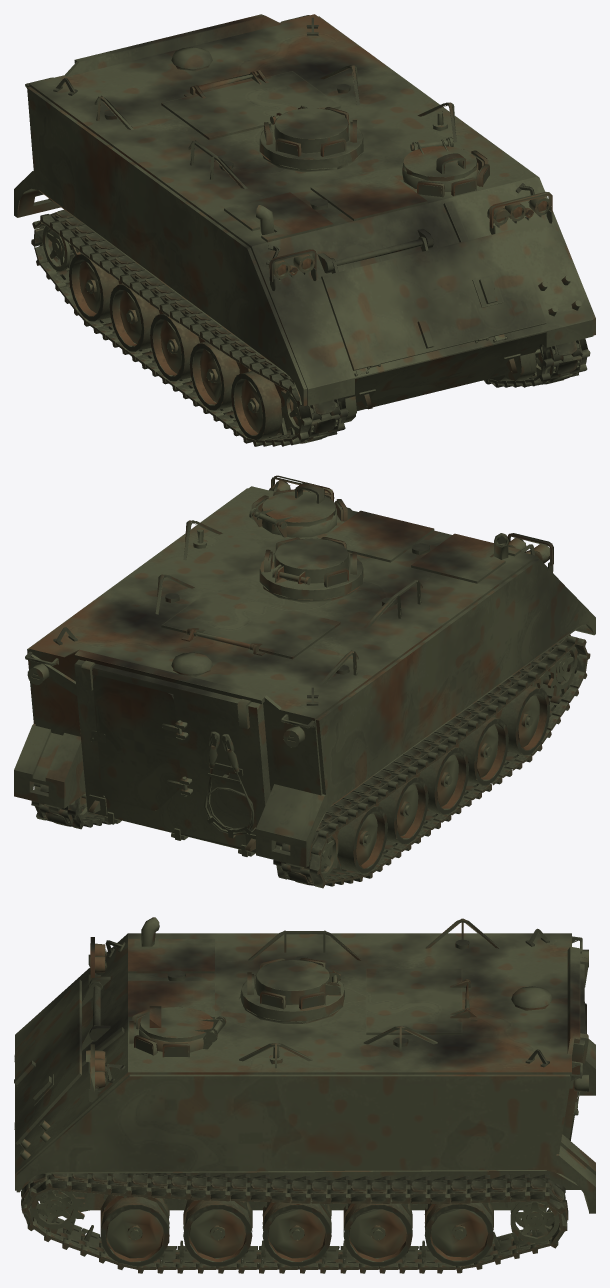
The model's file is WreckM113.fbx.
3 renders of one model, top to bottom at view 1: azimuth 30°, elevation 25°; view 2: azimuth 150°, elevation 25°; view 3: azimuth 270°, elevation 25°, orthographic.
Visible parts, largest first — view 1: WreckM113_LOD0; view 2: WreckM113_LOD0; view 3: WreckM113_LOD0.
Boxes of the visible parts, x1,y1,x2,y2 form: WreckM113_LOD0: (14,14,595,446); WreckM113_LOD0: (14,475,595,888); WreckM113_LOD0: (14,917,595,1273).
Size of what is drawn, in the model's own units: 3.05 by 2.3 by 5.27.
Materials: 1 (1 with a texture image).
